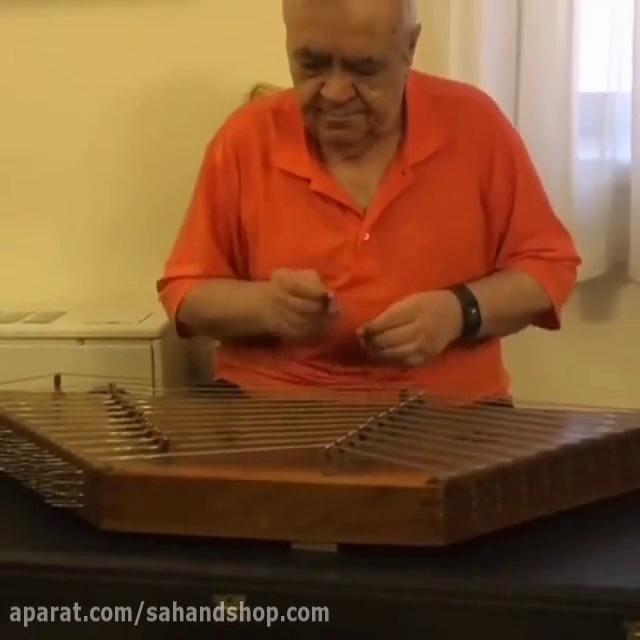Santur: (6, 382, 640, 551)
